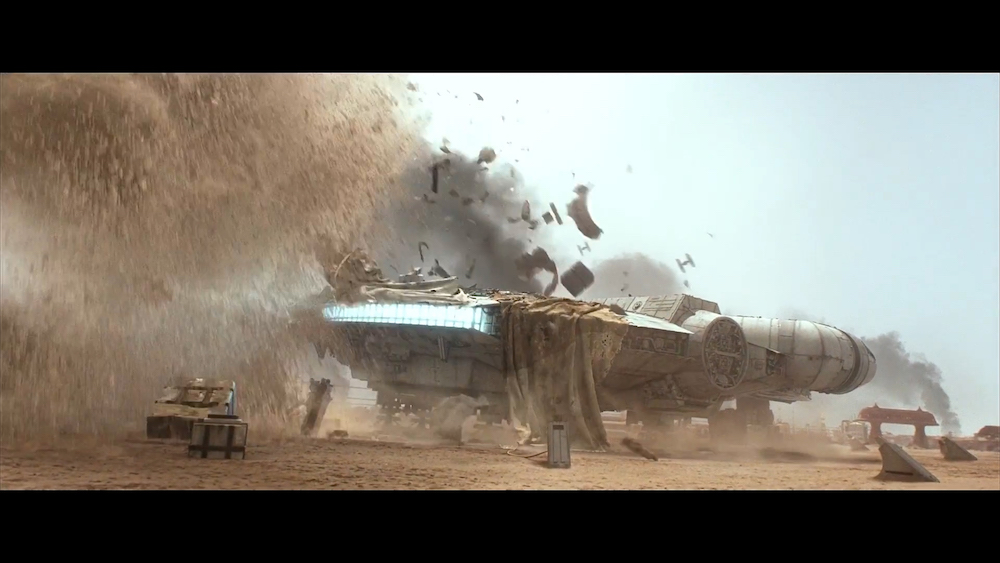Millennium Falcon: (308, 291, 878, 421)
Tie Fighter: (676, 255, 696, 274), (578, 242, 591, 256)
